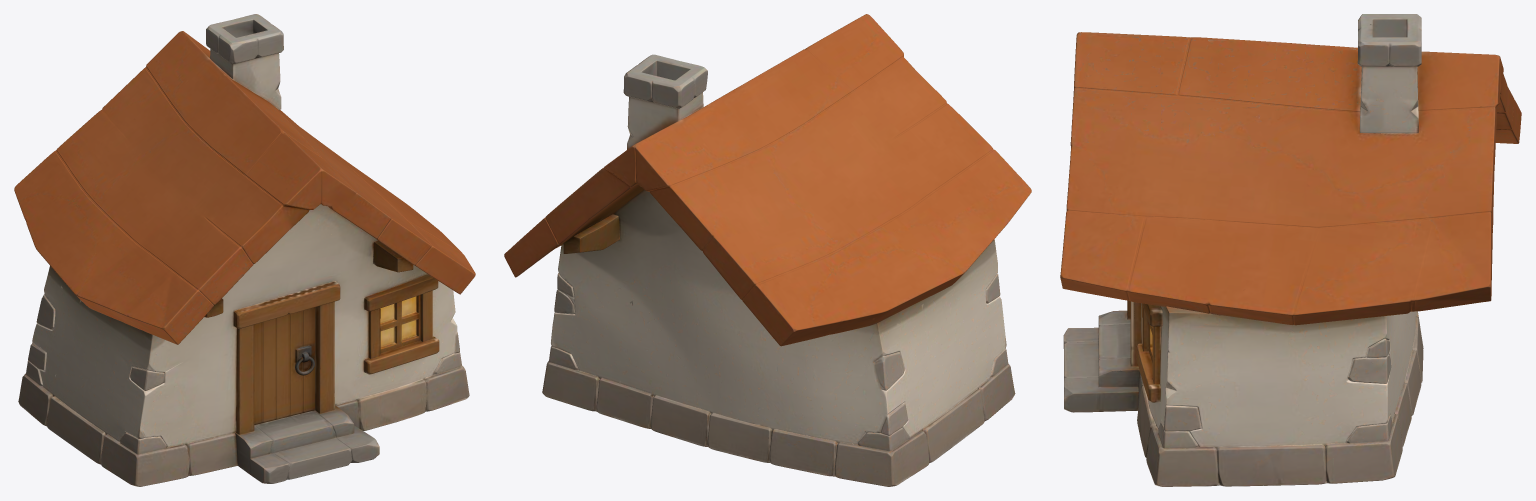
The model's file is small_house.glb.
3 renders of one model, left to right at view 1: azimuth 30°, elevation 25°; view 2: azimuth 150°, elevation 25°; view 3: azimuth 270°, elevation 25°, orthographic. The views are drawn at different scales.
Parts seen in each view (by area): view 1: node_0; view 2: node_0; view 3: node_0.
Part boxes in pixels (x1,y1,x2,y2): node_0: (14, 14, 475, 486); node_0: (504, 14, 1031, 486); node_0: (1060, 14, 1521, 486).
Size of the model in its own units: 0.8232 by 0.7381 by 0.797.
Materials: 1 (1 with a texture image).
